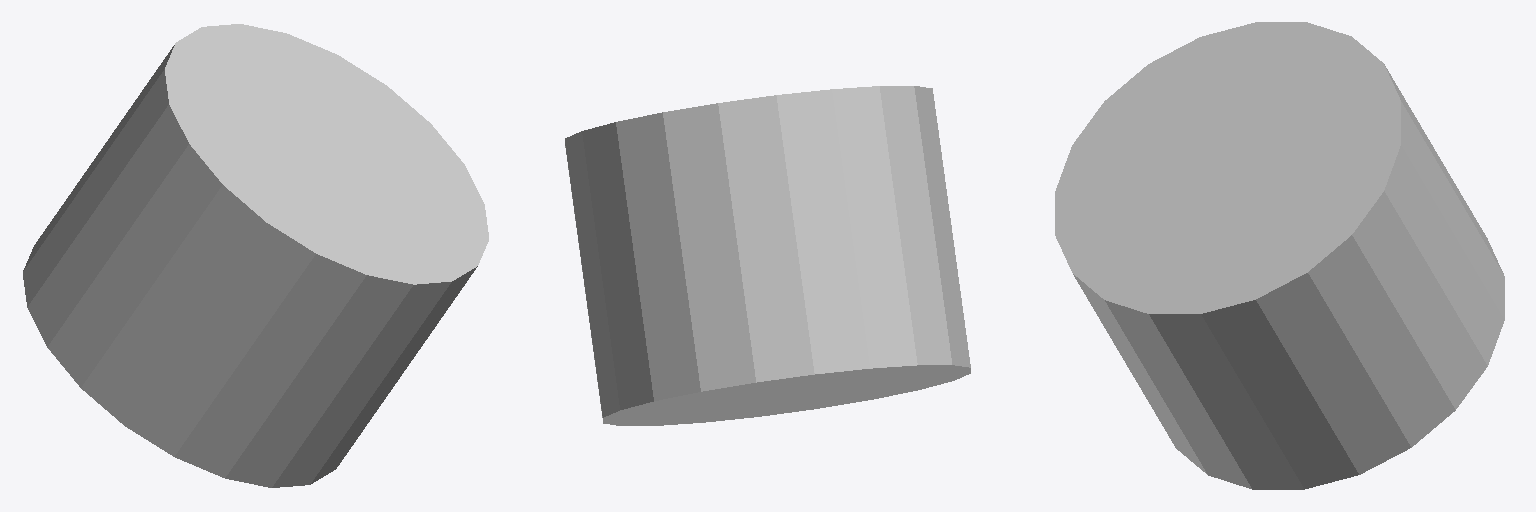
File: Nervio_supraclavicular_I_2.obj
3 renders of one model, left to right at view 1: azimuth 30°, elevation 25°; view 2: azimuth 150°, elevation 25°; view 3: azimuth 270°, elevation 25°, orthographic.
Parts seen in each view (by area): view 1: polySurface59; view 2: polySurface59; view 3: polySurface59.
Boxes of the visible parts, box(x1,y1,x2,y2) form: polySurface59: box(23, 24, 488, 487); polySurface59: box(565, 86, 970, 425); polySurface59: box(1055, 22, 1504, 489).
Bounding box in the file's own units: 0.0337 × 0.0324 × 0.0334.